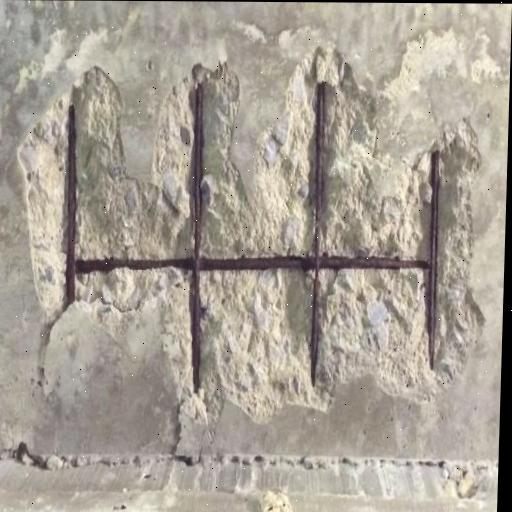exposed_rebar: (65, 82, 440, 387)
spalling: (19, 48, 482, 418)
